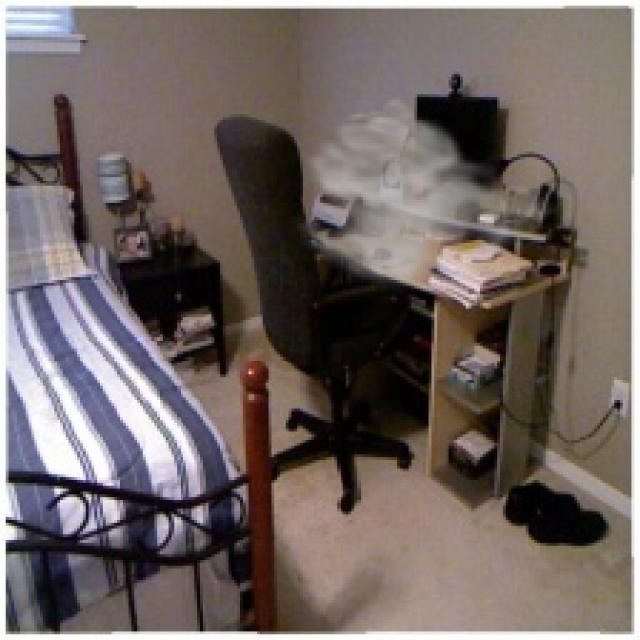smoke: (280, 94, 563, 294)
